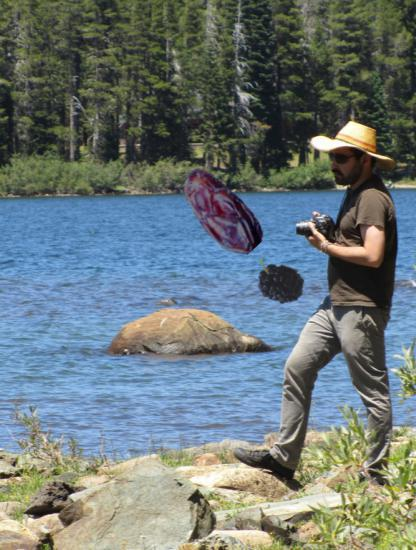Dates: (171, 163, 270, 262)
Mulberry: (251, 262, 306, 317)
